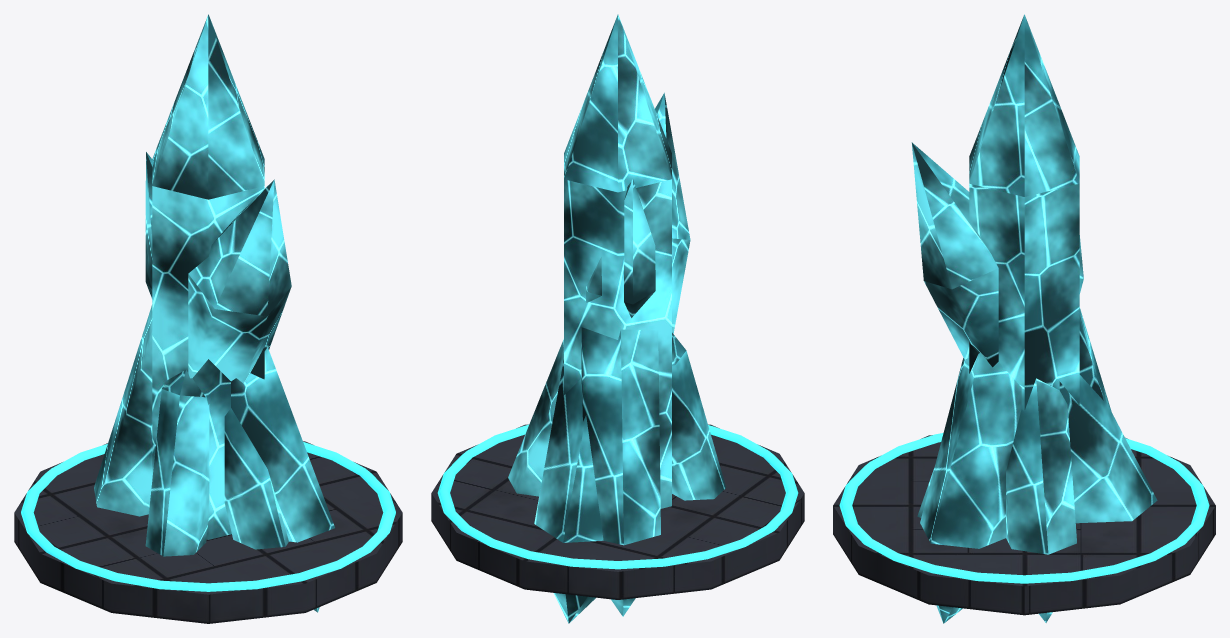
File: sf_crystals.glb
3 views of the same model, side by side, from view 1: azimuth 30°, elevation 25°; view 2: azimuth 150°, elevation 25°; view 3: azimuth 270°, elevation 25° (orthographic). The views are drawn at different scales.
Visible parts, largest first — view 1: Base; view 2: Base; view 3: Base.
Part boxes in pixels (x1,y1,x2,y2): Base: [14, 14, 402, 623]; Base: [431, 14, 804, 623]; Base: [833, 14, 1215, 623].
Bounding box in the file's own units: 0.6 × 1.03 × 0.6.
3 materials, 3 textured.
